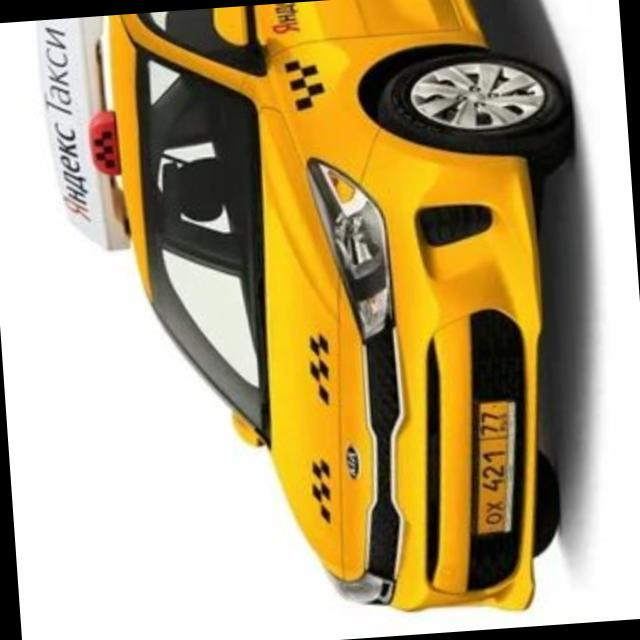taxi: (33, 1, 607, 640)
